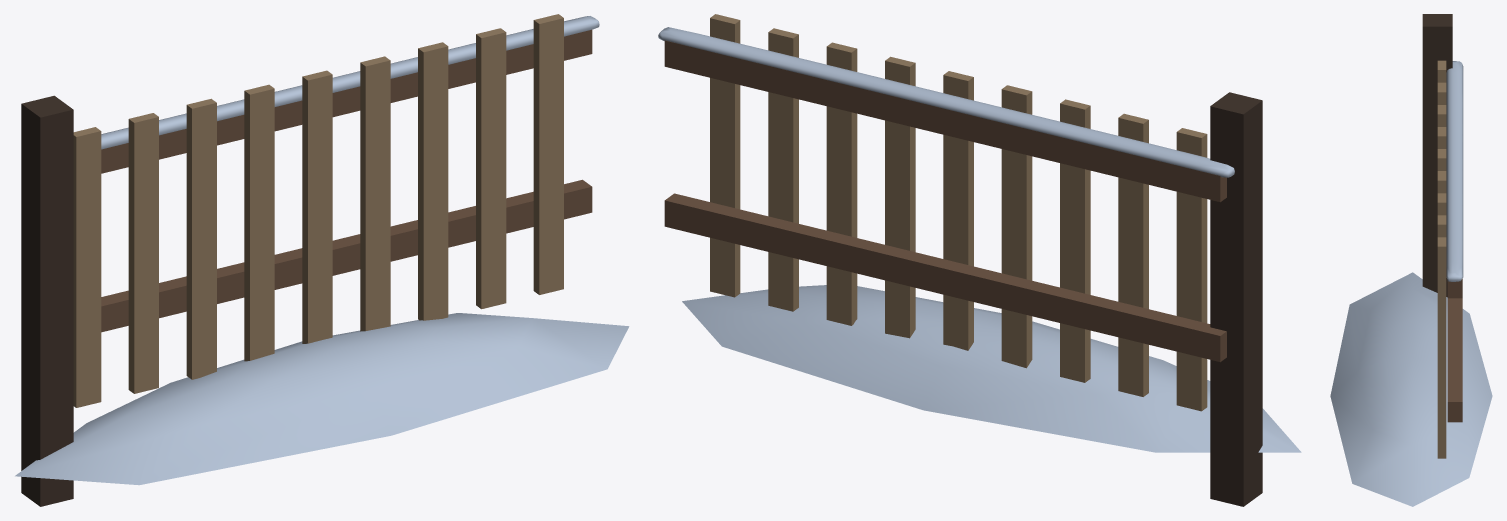
Rendered from fence_wood_2.glb.
The picture shows the model from 3 angles, left to right: view 1: azimuth 30°, elevation 25°; view 2: azimuth 150°, elevation 25°; view 3: azimuth 270°, elevation 25°; orthographic projection. The views are drawn at different scales.
Parts seen in each view (by area): view 1: Prop; view 2: Prop; view 3: Prop.
Part boxes in pixels (x1=…): Prop: x1=15, y1=14, x2=629, y2=506; Prop: x1=658, y1=14, x2=1301, y2=506; Prop: x1=1330, y1=14, x2=1492, y2=506.
Bounding box in the file's own units: 2.23 × 1.35 × 0.6518.
